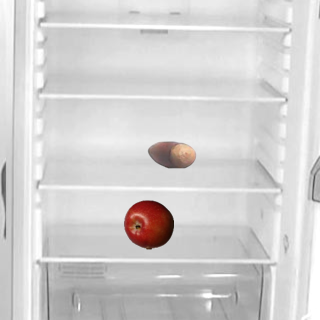Apple Braeburn: (123, 199, 173, 249)
Hazelnut: (146, 129, 196, 179)
